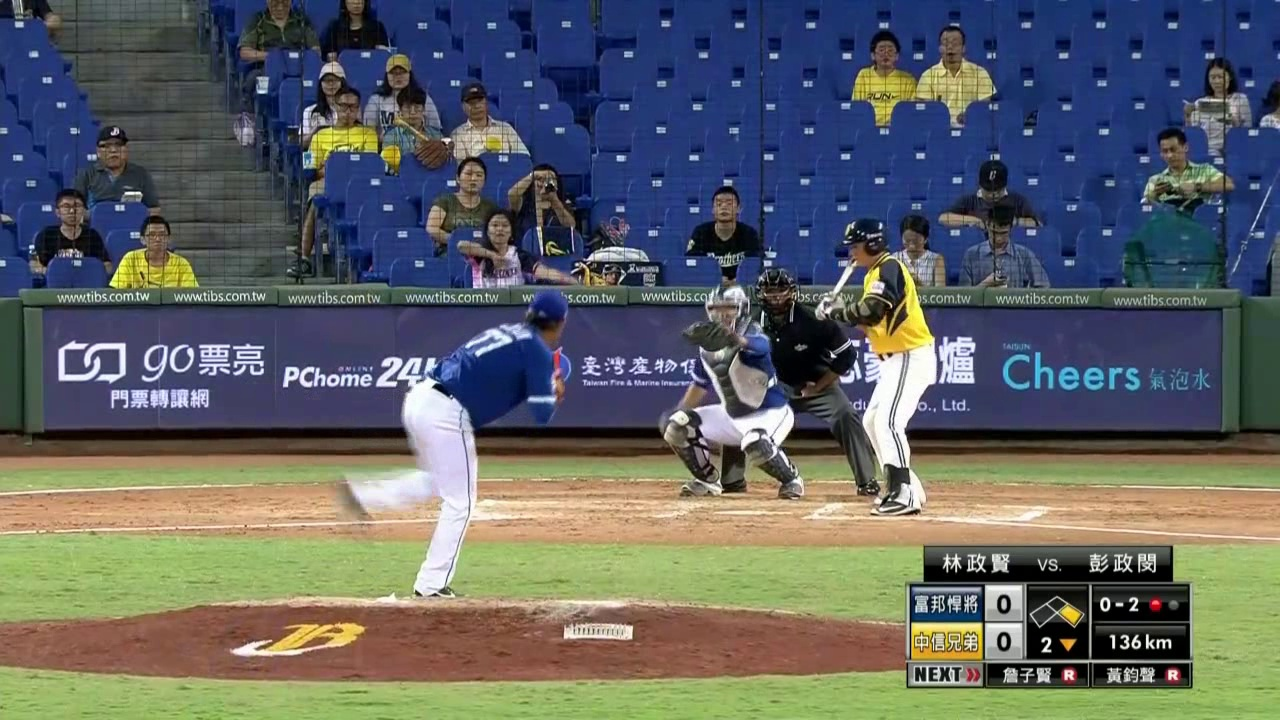base: (1026, 590, 1086, 629)
bat: (825, 229, 877, 310)
out: (1146, 588, 1186, 619)
score1: (986, 587, 1021, 622)
score2: (987, 627, 1021, 657)
session: (1028, 628, 1087, 659)
speed: (1094, 630, 1189, 661)
strikeball: (1096, 587, 1143, 620)
